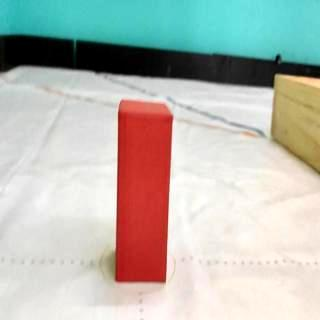redbox: (117, 99, 172, 283)
